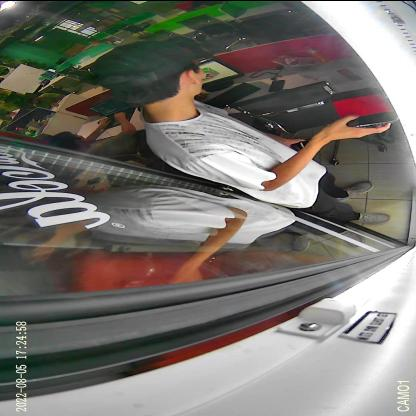red: (330, 86, 398, 126)
